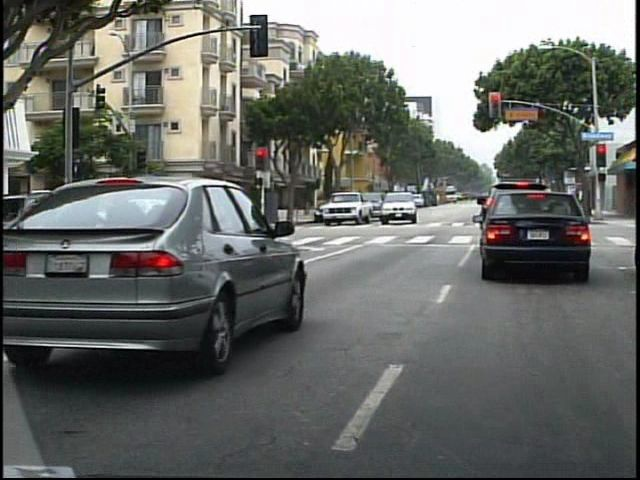person: (146, 191, 164, 236), (166, 193, 183, 234)
